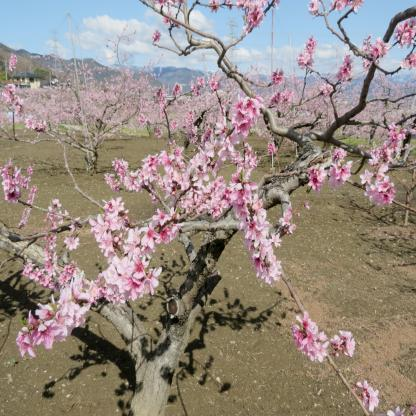Momo: (0, 0, 415, 416), (0, 22, 158, 146), (132, 66, 246, 138), (231, 63, 339, 131), (330, 67, 416, 142)
